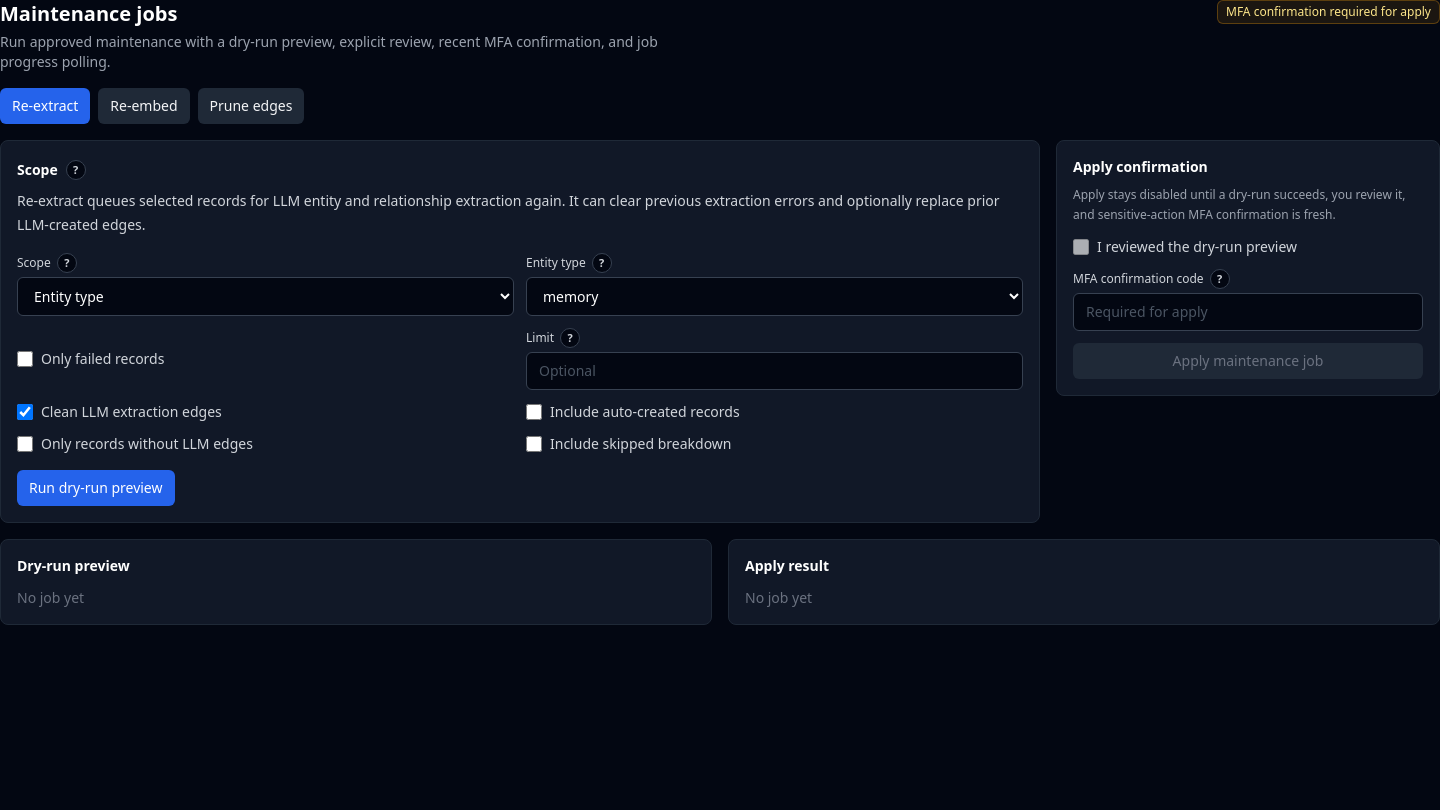
it: AdminMaintenance › uses step-up before apply, sends preview and idempotency evidence, then polls to completion
Click the button "Run dry-run preview" at (96, 488), box [17, 470, 174, 506]
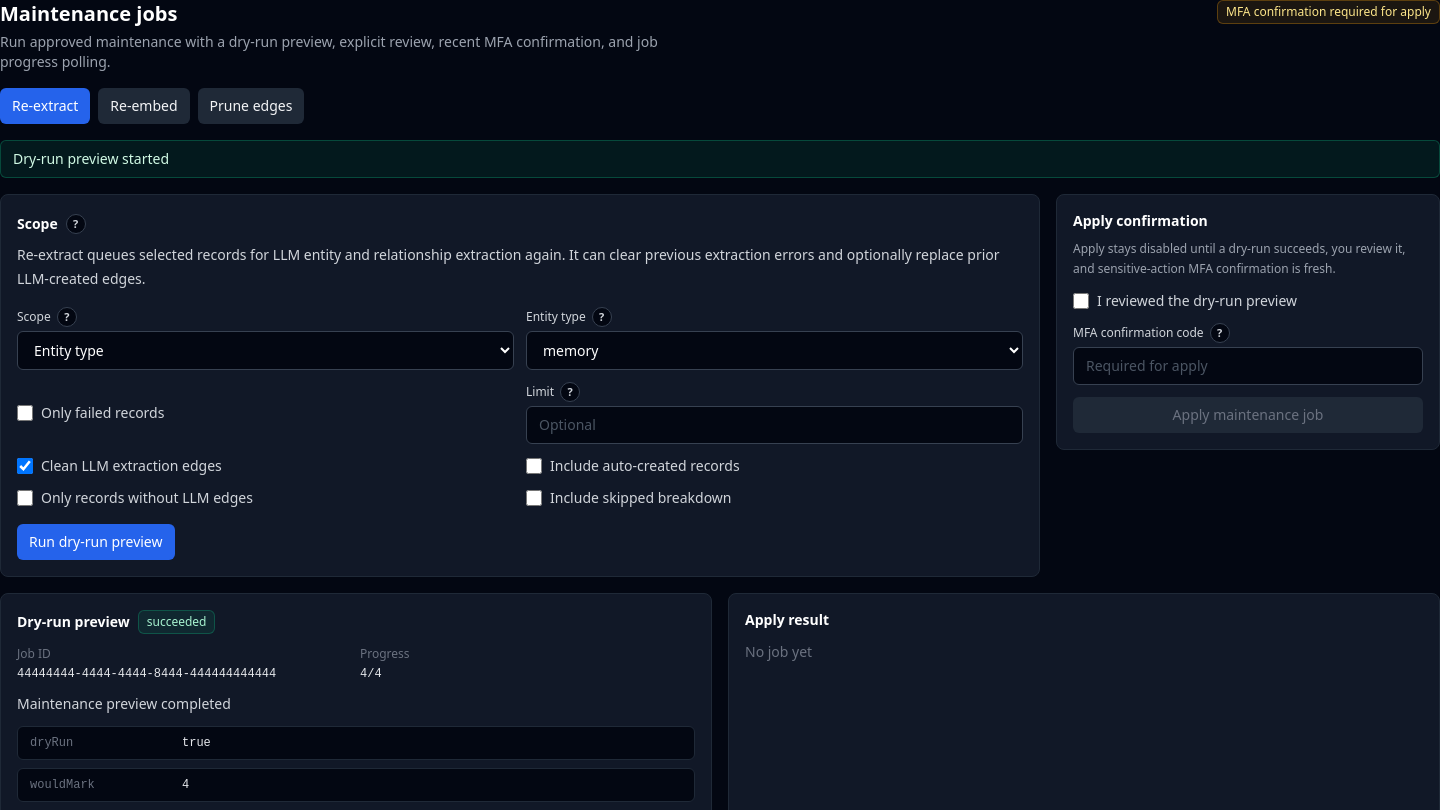
Expected: the text "wouldMark" is shown, [30, 778, 95, 792]
Click the checkbox labelled "I reviewed the dry-run preview" at (1081, 301), box [1073, 293, 1089, 309]
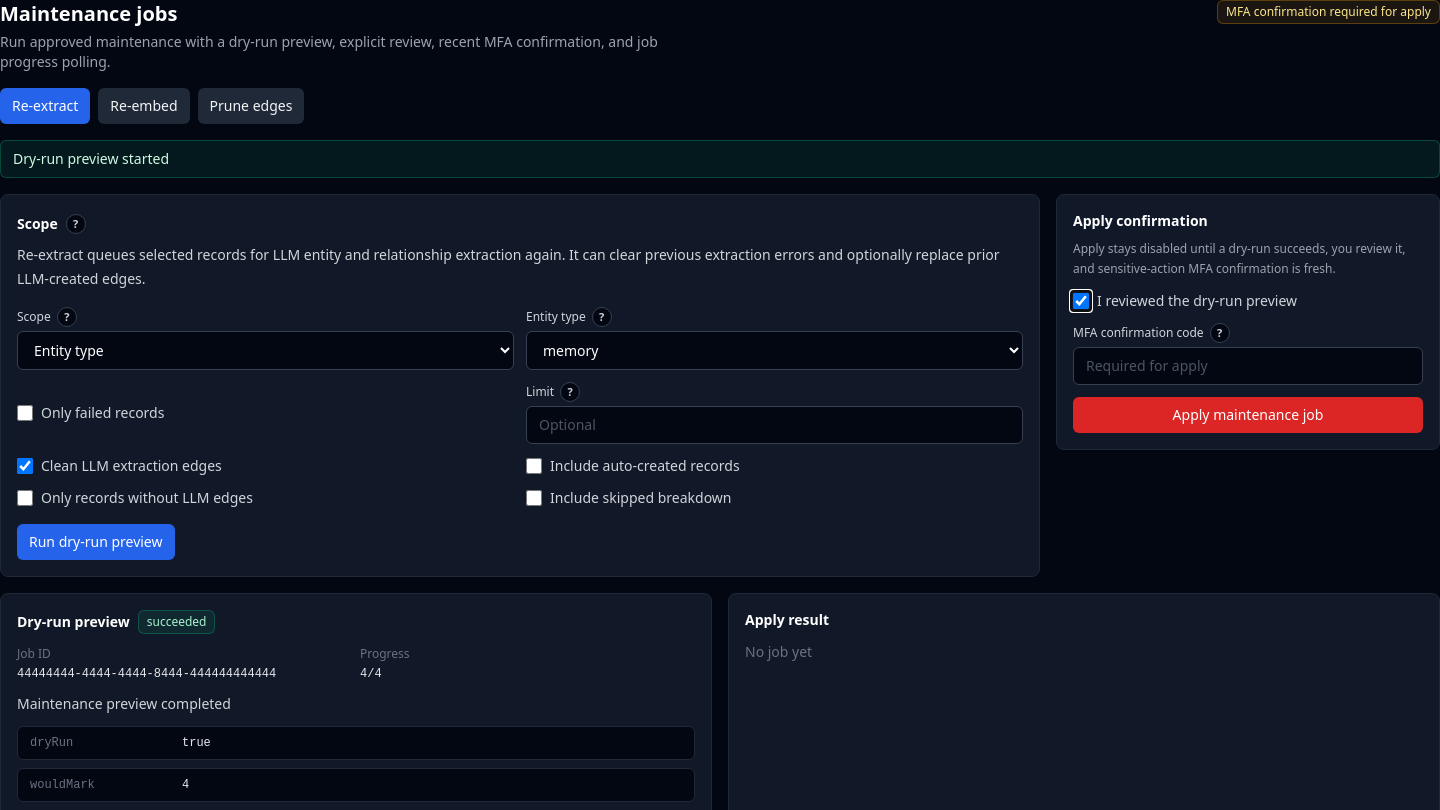
Type "123456" into the field labelled "MFA confirmation code" at (1248, 366), box [1073, 347, 1423, 385]
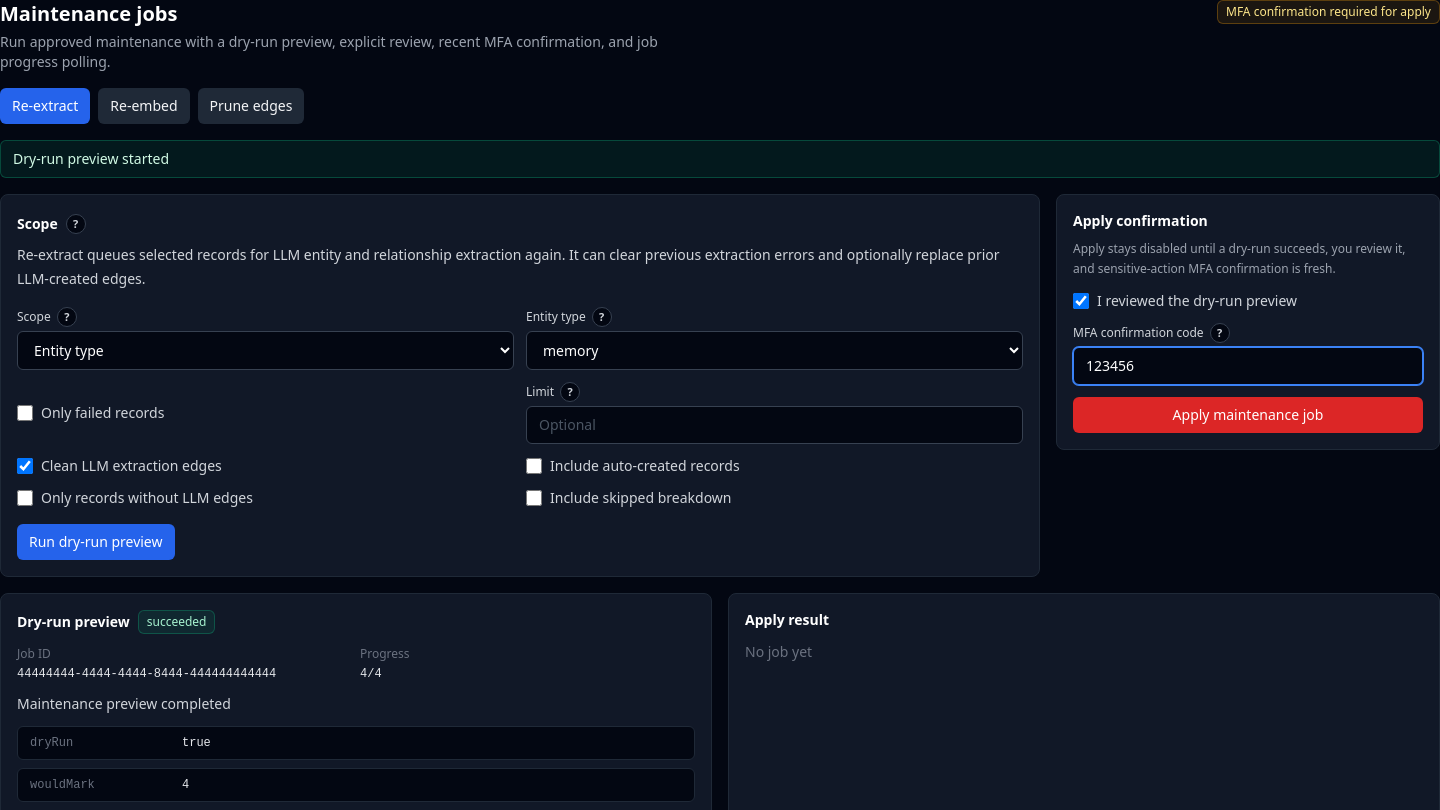
Click the button "Apply maintenance job" at (1248, 415), box [1073, 397, 1423, 433]
Wait 2000 ms
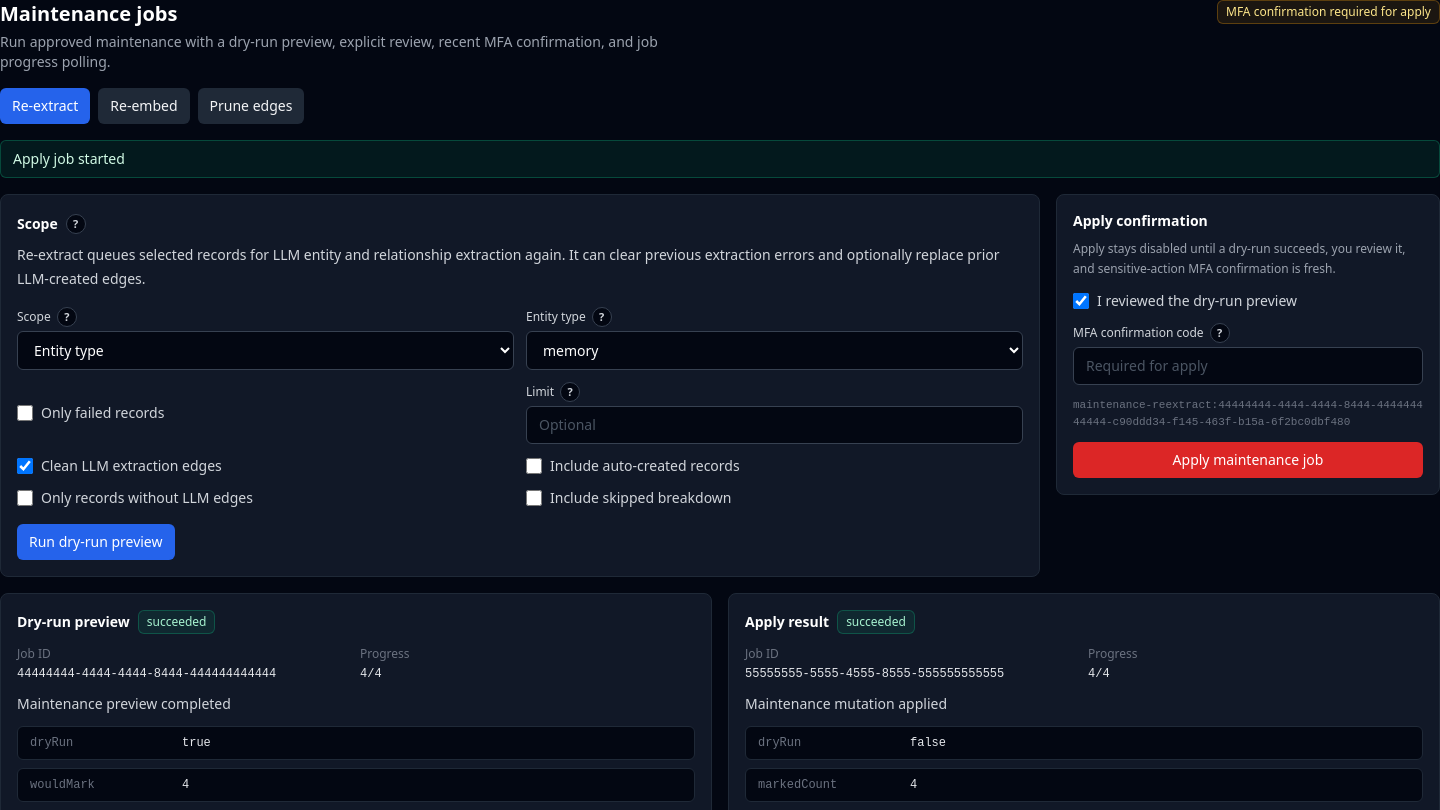
Expected: the text "2/4" next to "55555555-5555-4555-8555-555555555555" is shown, [1088, 667, 1110, 681]
Expected: the text "Maintenance mutation applied" is shown, [745, 694, 947, 713]
Expected: the text "markedCount" is shown, [758, 778, 837, 792]
